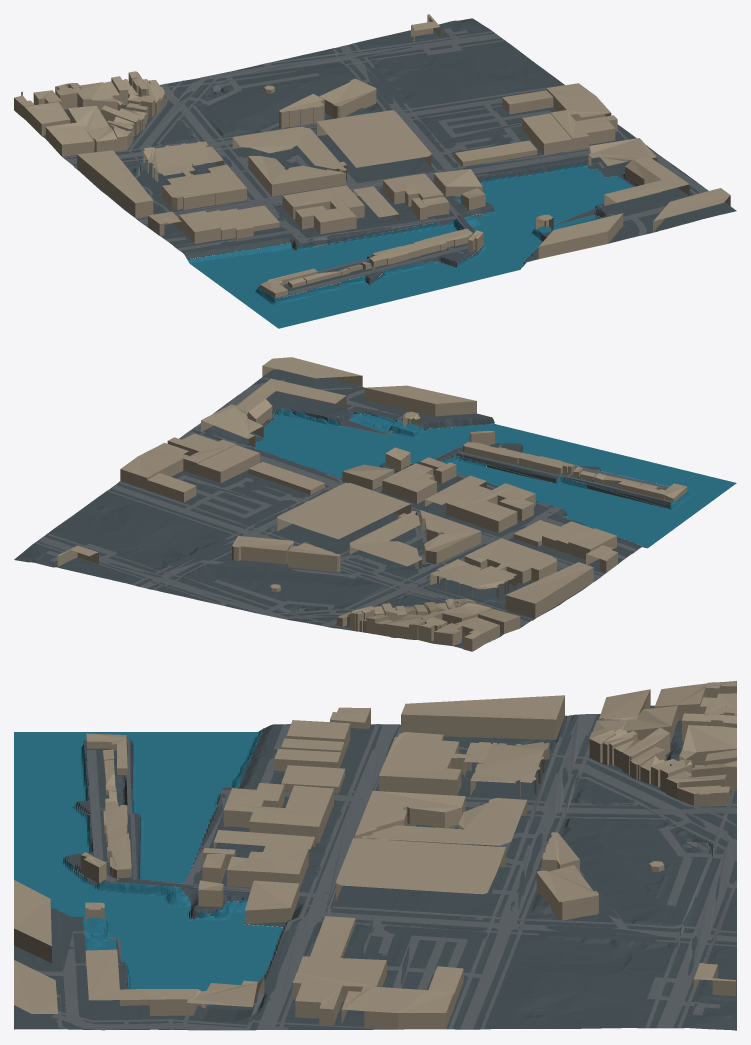
Rendered from epsg26910-1435-10897.lod0.glb.
The picture shows the model from 3 angles, top to bottom: view 1: azimuth 30°, elevation 25°; view 2: azimuth 150°, elevation 25°; view 3: azimuth 270°, elevation 25°; orthographic projection. The views are drawn at different scales.
Parts seen in each view (by area): view 1: epsg26910-1435-10897-lod0; view 2: epsg26910-1435-10897-lod0; view 3: epsg26910-1435-10897-lod0.
Part boxes in pixels (left/top/right/bottom): epsg26910-1435-10897-lod0: left=14, top=14, right=736, bottom=328; epsg26910-1435-10897-lod0: left=14, top=357, right=736, bottom=651; epsg26910-1435-10897-lod0: left=14, top=681, right=736, bottom=1030.
Size of the model in its own units: 384 by 33.21 by 384.
